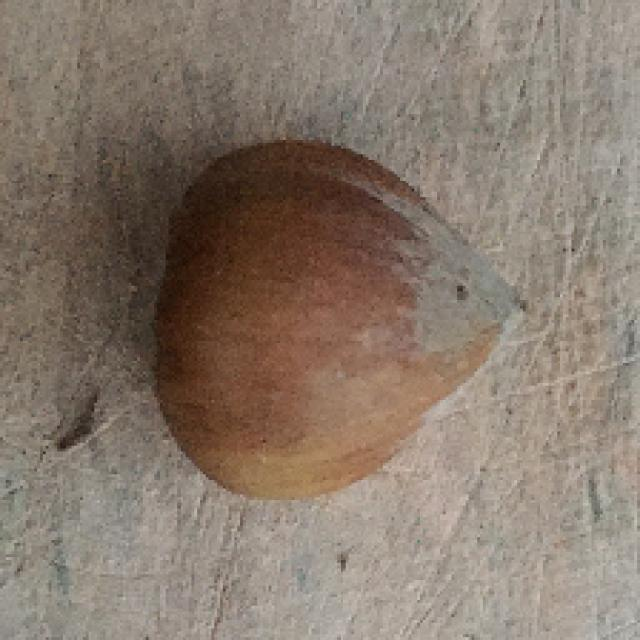qualityHazelnut: (130, 134, 533, 501)
